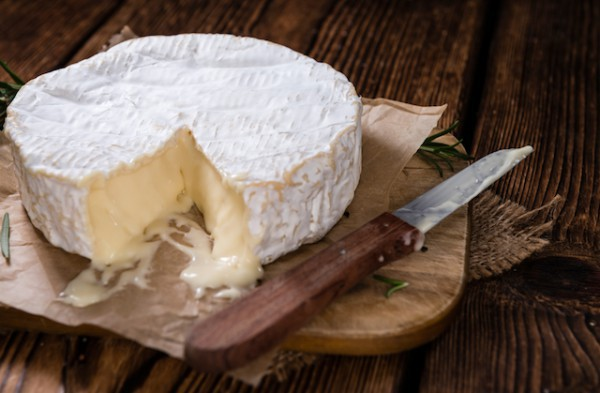camembert: (3, 32, 364, 270)
